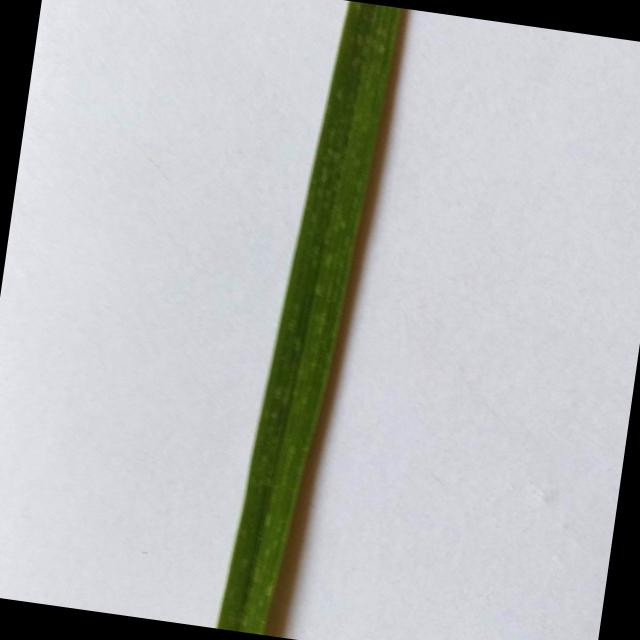Rice_Healthy: (217, 1, 402, 635)
